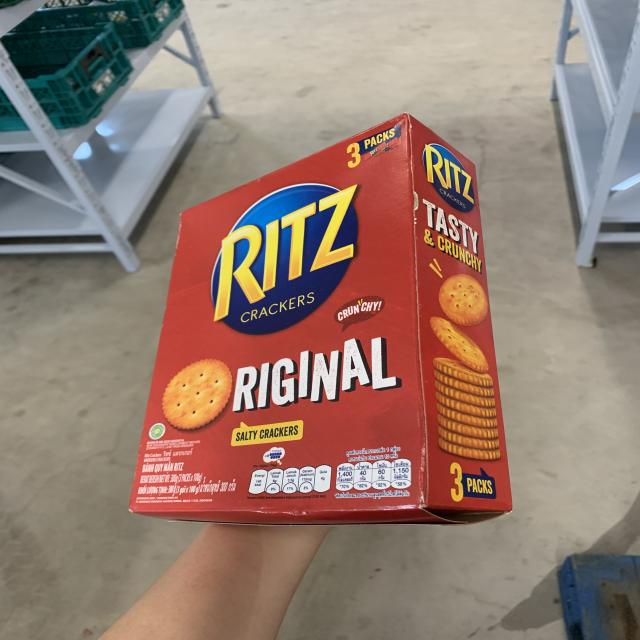object_name: (131, 140, 505, 516)
